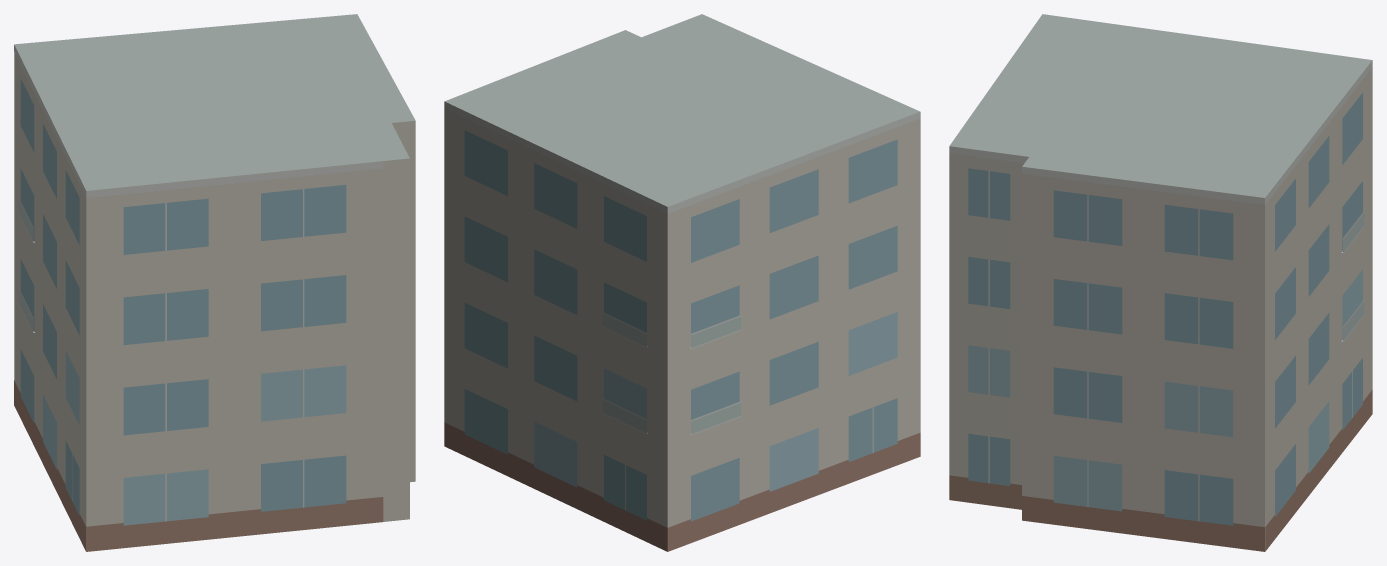
File: survey-upis-32722003.glb
3 views of the same model, side by side, from view 1: azimuth 30°, elevation 25°; view 2: azimuth 150°, elevation 25°; view 3: azimuth 270°, elevation 25° (orthographic). The views are drawn at different scales.
Parts seen in each view (by area): view 1: survey-upis-32722003.tmp; view 2: survey-upis-32722003.tmp; view 3: survey-upis-32722003.tmp.
Part boxes in pixels (bbox=[...]): survey-upis-32722003.tmp: bbox=[14, 14, 415, 551]; survey-upis-32722003.tmp: bbox=[444, 14, 920, 551]; survey-upis-32722003.tmp: bbox=[949, 14, 1372, 551].
Size of the model in its own units: 13.76 by 12.33 by 13.37.
